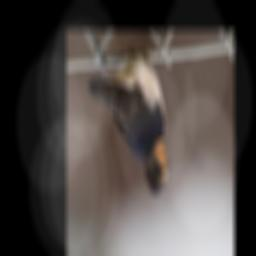Swallow: (87, 42, 171, 198)
